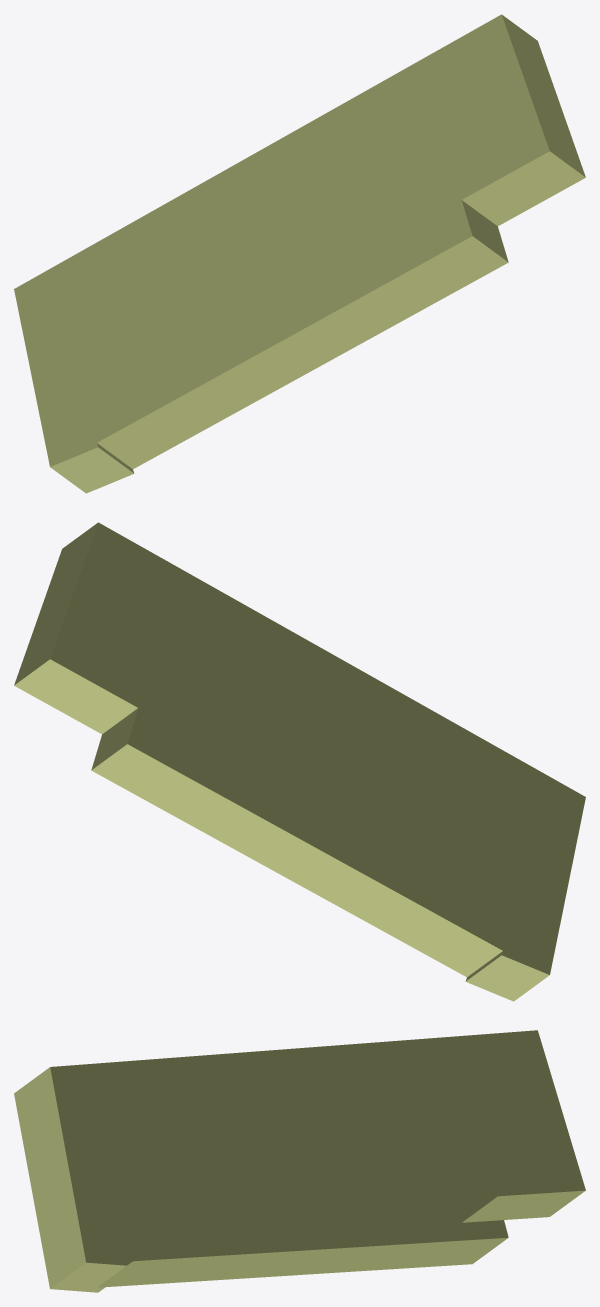
3 views of the same model, one above another, from view 1: azimuth 30°, elevation 25°; view 2: azimuth 150°, elevation 25°; view 3: azimuth 330°, elevation 25° (orthographic).
Parts seen in each view (by area): view 1: 0_3_0_2_1_2_0; view 2: 0_3_0_2_1_2_0; view 3: 0_3_0_2_1_2_0.
Part boxes in pixels (x1,y1,x2,y2): 0_3_0_2_1_2_0: [14, 14, 585, 493]; 0_3_0_2_1_2_0: [14, 522, 585, 1001]; 0_3_0_2_1_2_0: [14, 1030, 585, 1292].
Bounding box in the file's own units: 76.95 × 47.02 × 9.
